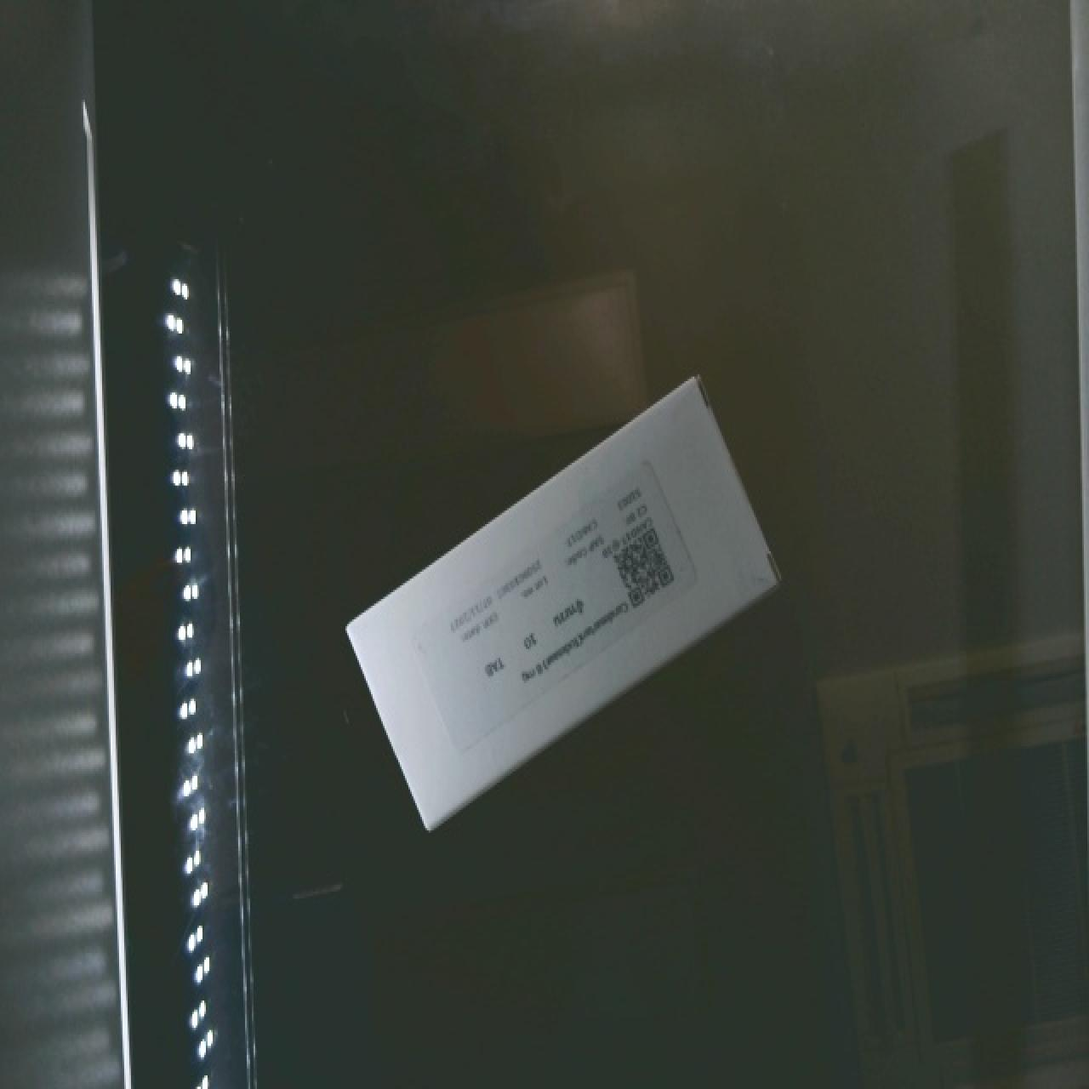qr_code: (580, 490, 708, 639)
